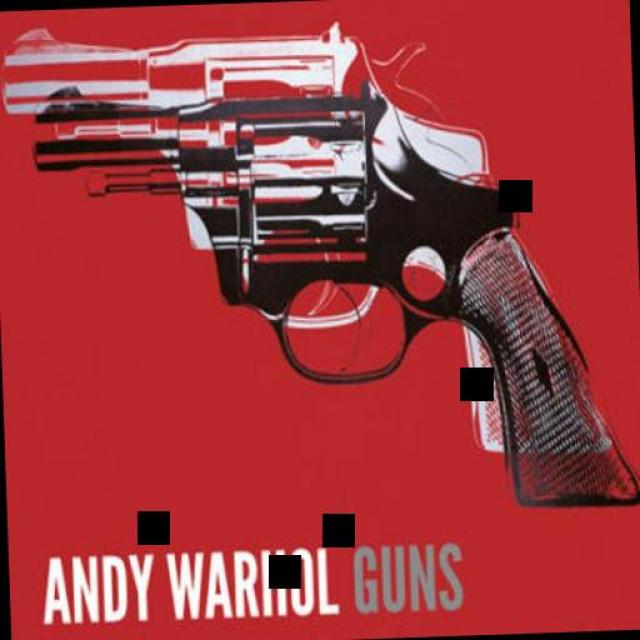gun: (0, 1, 612, 473), (30, 60, 640, 525)
